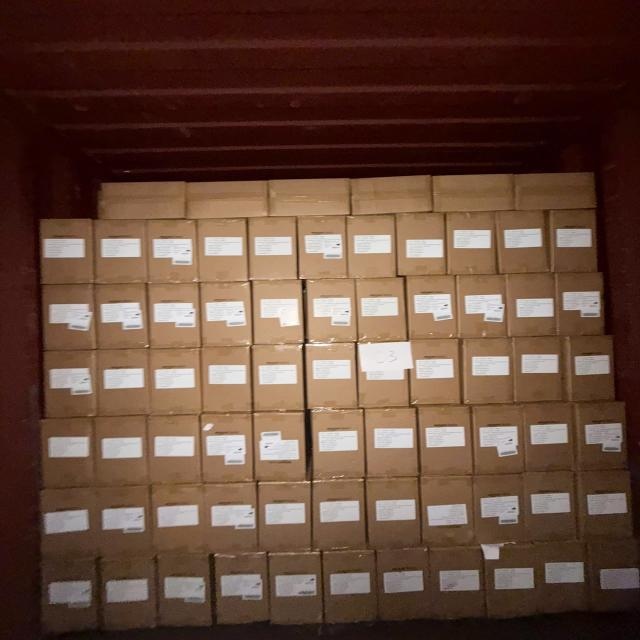Carton: (145, 487, 254, 560), (36, 555, 105, 637), (94, 551, 161, 634), (476, 540, 544, 621), (35, 483, 100, 561), (94, 480, 158, 558), (571, 466, 637, 541), (534, 536, 593, 618), (582, 534, 640, 616), (428, 546, 482, 624), (158, 553, 214, 628), (378, 548, 432, 625), (313, 480, 368, 554), (93, 179, 192, 220), (366, 475, 420, 550), (268, 552, 322, 627), (325, 550, 378, 626), (420, 474, 474, 548), (259, 481, 313, 555), (212, 553, 266, 627), (40, 415, 95, 487), (418, 406, 472, 479), (313, 409, 367, 482), (42, 347, 97, 418), (255, 410, 309, 482), (362, 408, 416, 480), (150, 412, 204, 484), (574, 401, 629, 471), (526, 471, 580, 542), (40, 282, 96, 350), (514, 336, 570, 404), (94, 413, 146, 486), (202, 411, 254, 483), (525, 402, 577, 473), (472, 404, 523, 476), (474, 472, 525, 544), (255, 342, 308, 411), (41, 217, 96, 283), (93, 282, 147, 349), (100, 347, 152, 416), (150, 285, 203, 352), (149, 347, 201, 415), (254, 282, 307, 348), (200, 282, 252, 349), (355, 341, 407, 408), (92, 218, 146, 282), (410, 338, 460, 407), (307, 281, 360, 346), (304, 342, 356, 408), (463, 338, 513, 406), (496, 209, 548, 274), (146, 221, 198, 286), (458, 276, 509, 342), (557, 270, 608, 336), (271, 178, 353, 219), (201, 348, 251, 415), (197, 220, 248, 285), (352, 176, 434, 216), (431, 175, 513, 215), (397, 215, 448, 279), (547, 209, 598, 273), (566, 335, 614, 403), (356, 277, 406, 342), (408, 275, 458, 340), (346, 217, 396, 281), (250, 216, 300, 280), (445, 210, 495, 274), (186, 180, 266, 220), (510, 272, 558, 338), (516, 174, 597, 213), (301, 218, 350, 282)
